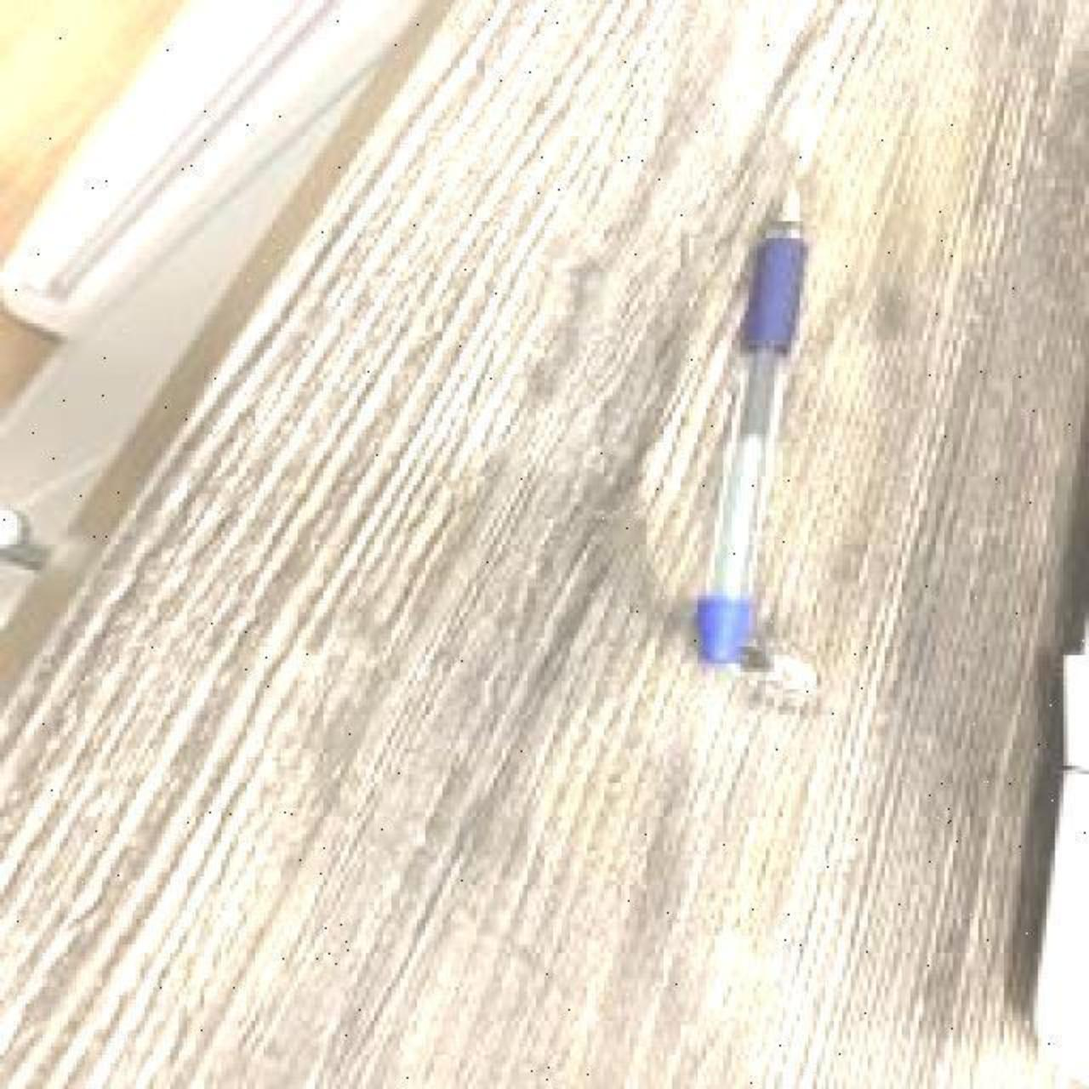pen: (698, 184, 808, 669)
